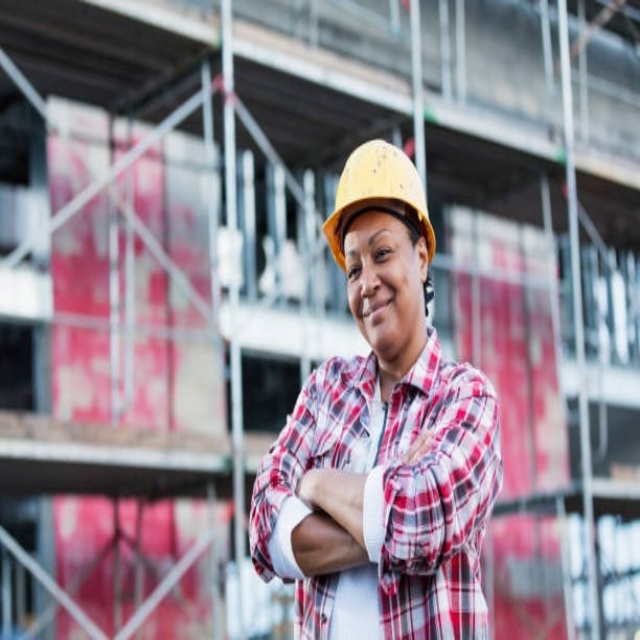Sin_gafas: (341, 226, 402, 284)
Sin_mascara: (359, 286, 398, 334)
